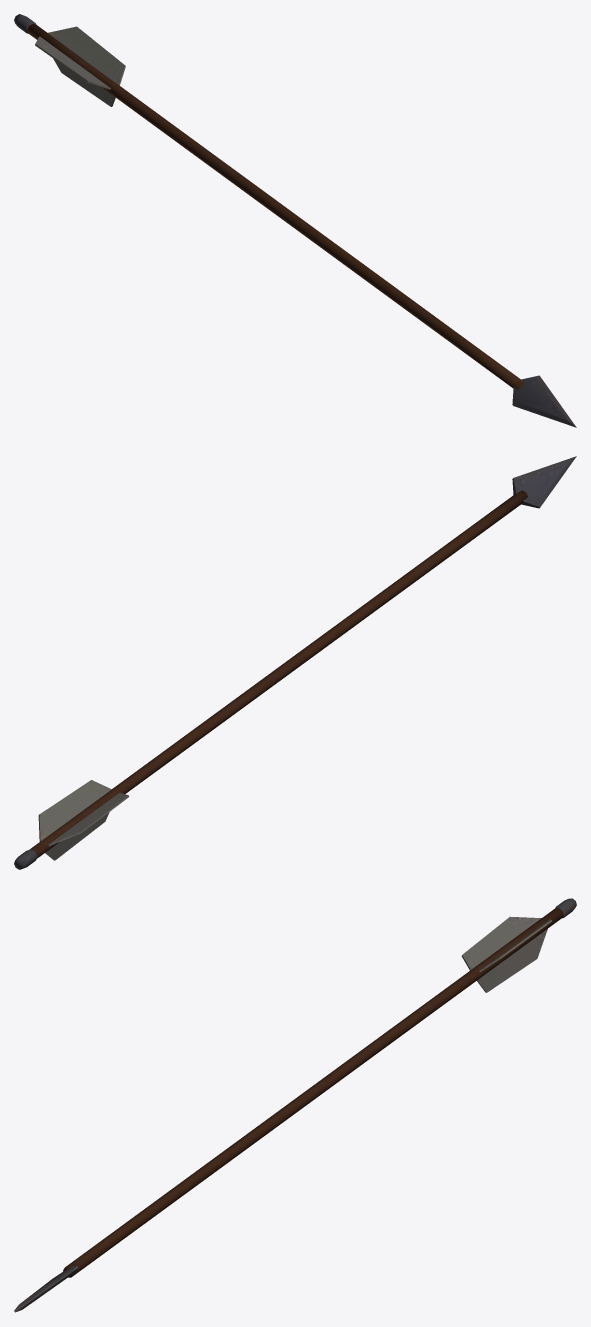
The model's file is arrow.glb.
3 renders of one model, top to bottom at view 1: azimuth 30°, elevation 25°; view 2: azimuth 150°, elevation 25°; view 3: azimuth 330°, elevation 25°, orthographic.
Visible parts, largest first — view 1: arrow; view 2: arrow; view 3: arrow.
Boxes of the visible parts, bbox=[...] form: arrow: bbox=[14, 14, 576, 427]; arrow: bbox=[14, 456, 576, 869]; arrow: bbox=[14, 898, 576, 1312].
Bounding box in the file's own units: 0.0348 × 0.033 × 0.78.
Materials: 1 (1 with a texture image).
